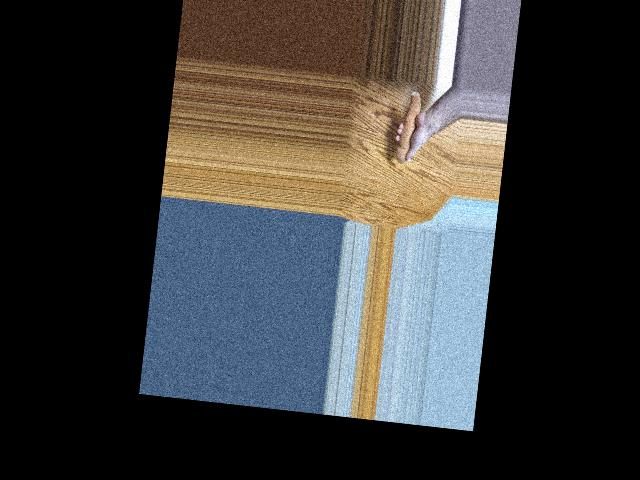sweet_potato: (392, 90, 424, 164)
